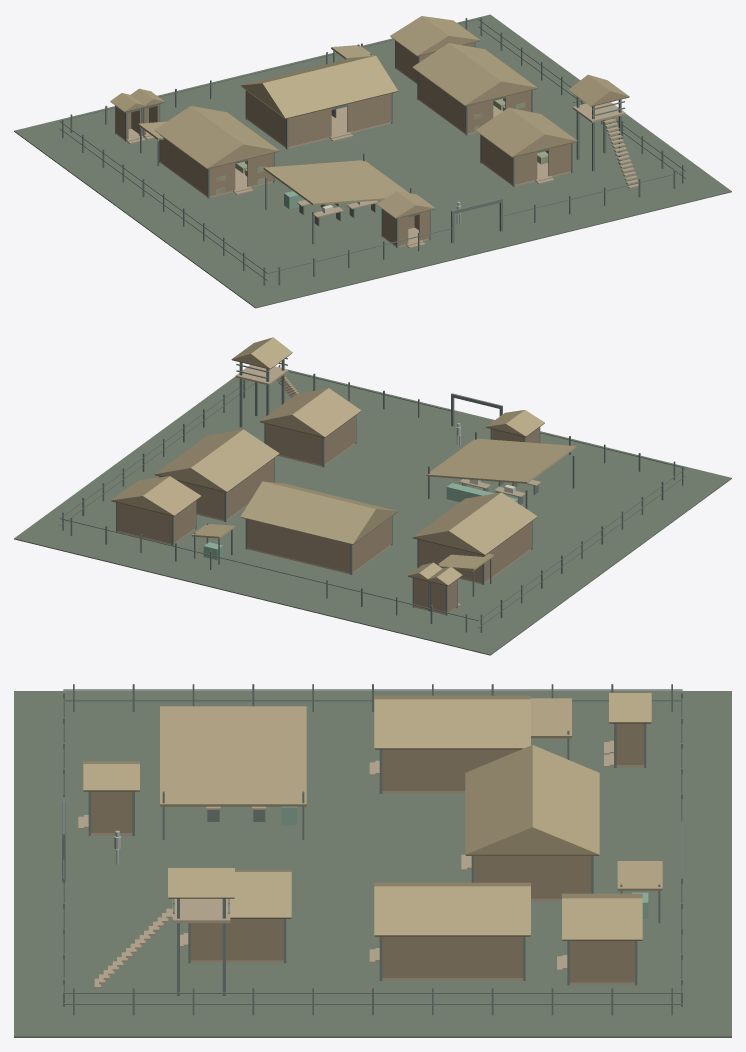
The model's file is C3_MainGarrison_Blockout.fbx.
3 renders of one model, top to bottom at view 1: azimuth 30°, elevation 25°; view 2: azimuth 150°, elevation 25°; view 3: azimuth 270°, elevation 25°, orthographic. The views are drawn at different scales.
Parts seen in each view (by area): view 1: Review ground / not a terrain proposal, Palm roof volume, Palm roof volume.002, Palm roof volume.001, Single slope roof, Palm roof volume.003, Palm roof volume.004, Front right, Side wall.004, Side wall.002, Front left, Palm roof volume.008 (+12 smaller); view 2: Review ground / not a terrain proposal, Palm roof volume, Palm roof volume.001, Palm roof volume.002, Single slope roof, Rear wall, Palm roof volume.003, Palm roof volume.004, Rear wall.003, Rear wall.004, Side wall.002, Side wall.004 (+11 smaller); view 3: Review ground / not a terrain proposal, Single slope roof, Palm roof volume, Palm roof volume.002, Palm roof volume.001, Side wall.005, Side wall.003, Side wall.001, Palm roof volume.004, Side wall.007, Palm roof volume.003, Side wall.009 (+13 smaller).
Boxes of the visible parts, x1,y1,x2,y2 form: Review ground / not a terrain proposal: (14, 14, 731, 308); Palm roof volume: (240, 55, 397, 119); Palm roof volume.002: (412, 43, 537, 106); Palm roof volume.001: (154, 106, 279, 169); Single slope roof: (263, 160, 408, 205); Palm roof volume.003: (475, 107, 577, 157); Palm roof volume.004: (390, 16, 480, 56); Front right: (347, 93, 391, 132); Side wall.004: (418, 72, 465, 132); Side wall.002: (160, 135, 207, 195); Front left: (288, 108, 331, 146); Palm roof volume.008: (568, 74, 629, 106); Review ground / not a terrain proposal: (14, 370, 731, 655); Palm roof volume: (240, 481, 397, 544); Palm roof volume.001: (412, 492, 537, 555); Palm roof volume.002: (154, 429, 279, 492); Single slope roof: (426, 438, 576, 483); Rear wall: (247, 519, 350, 572); Palm roof volume.003: (259, 388, 361, 437); Palm roof volume.004: (111, 476, 201, 516); Rear wall.003: (265, 424, 322, 464); Rear wall.004: (117, 503, 171, 543); Side wall.002: (484, 521, 531, 581); Side wall.004: (226, 458, 273, 518); Review ground / not a terrain proposal: (14, 691, 731, 1037); Single slope roof: (160, 706, 306, 806); Palm roof volume: (465, 745, 599, 855); Palm roof volume.002: (374, 882, 530, 936); Palm roof volume.001: (374, 695, 530, 749); Side wall.005: (382, 936, 523, 977); Side wall.003: (382, 749, 520, 790); Side wall.001: (474, 856, 591, 898); Palm roof volume.004: (562, 893, 642, 940); Side wall.007: (190, 919, 283, 960); Palm roof volume.003: (230, 870, 291, 918); Side wall.009: (569, 941, 634, 982).
Bounding box in the file's own units: 4100 × 660 × 3600.
